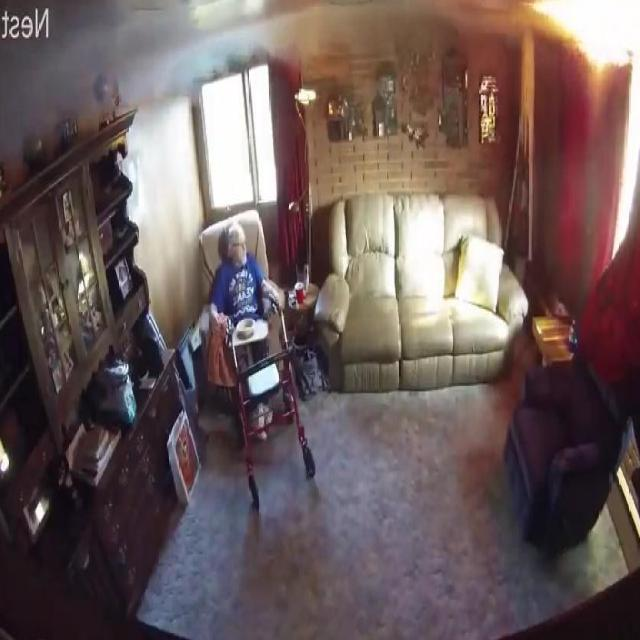smoke: (523, 0, 640, 71)
